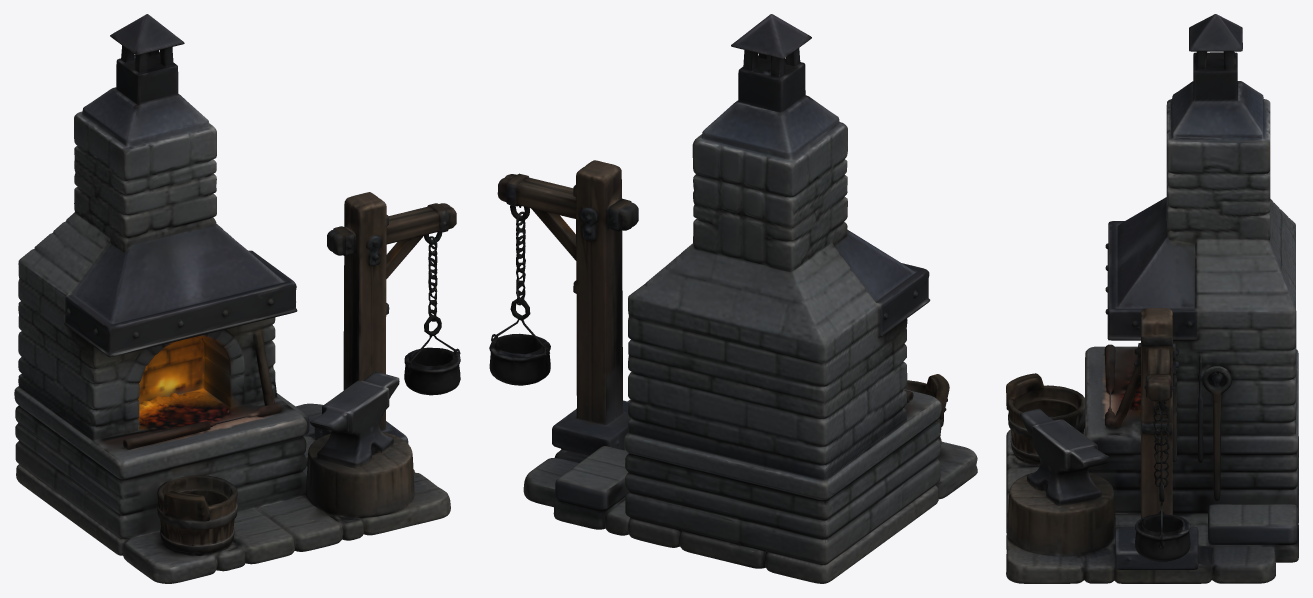
File: forge.glb
The picture shows the model from 3 angles, left to right: view 1: azimuth 30°, elevation 25°; view 2: azimuth 150°, elevation 25°; view 3: azimuth 270°, elevation 25°; orthographic projection. The views are drawn at different scales.
Parts seen in each view (by area): view 1: node_0; view 2: node_0; view 3: node_0.
Boxes of the visible parts, <box> form: node_0: <box>14,14,460,583</box>; node_0: <box>489,14,977,583</box>; node_0: <box>1006,14,1298,583</box>.
Bounding box in the file's own units: 0.7175 × 0.8563 × 0.4821.
Materials: 1 (1 with a texture image).
